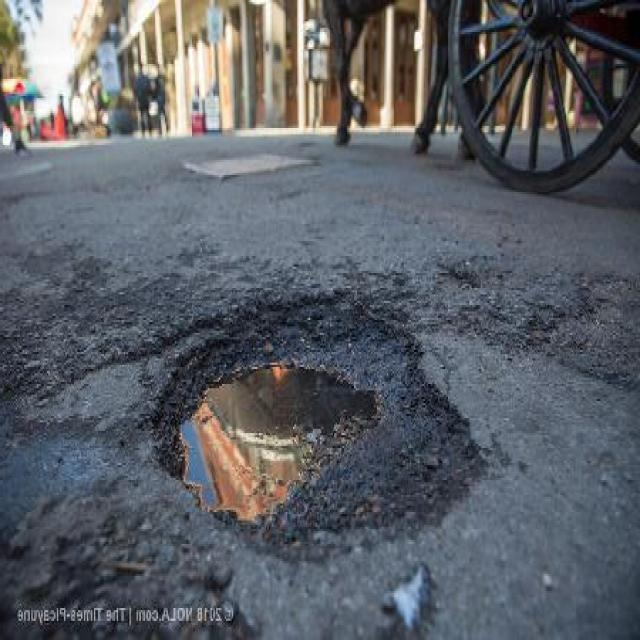Pothole: (148, 283, 495, 561)
